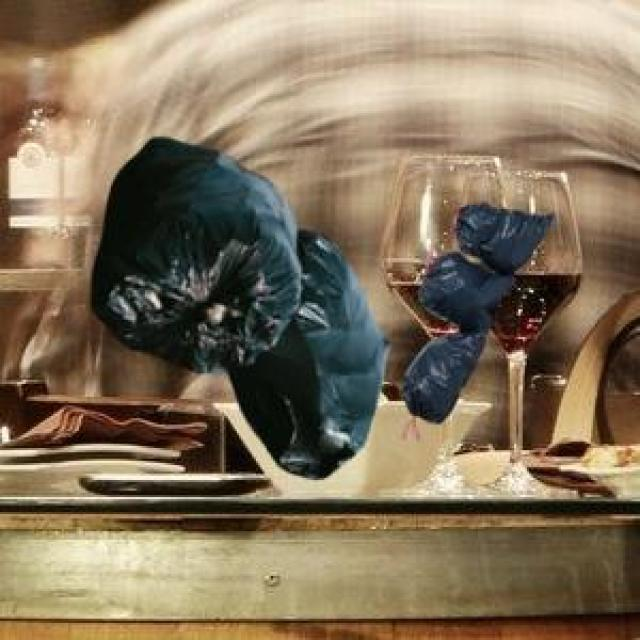Trashbag: (87, 127, 301, 373), (262, 236, 386, 485), (399, 328, 493, 430), (417, 258, 507, 335), (456, 206, 560, 269)
